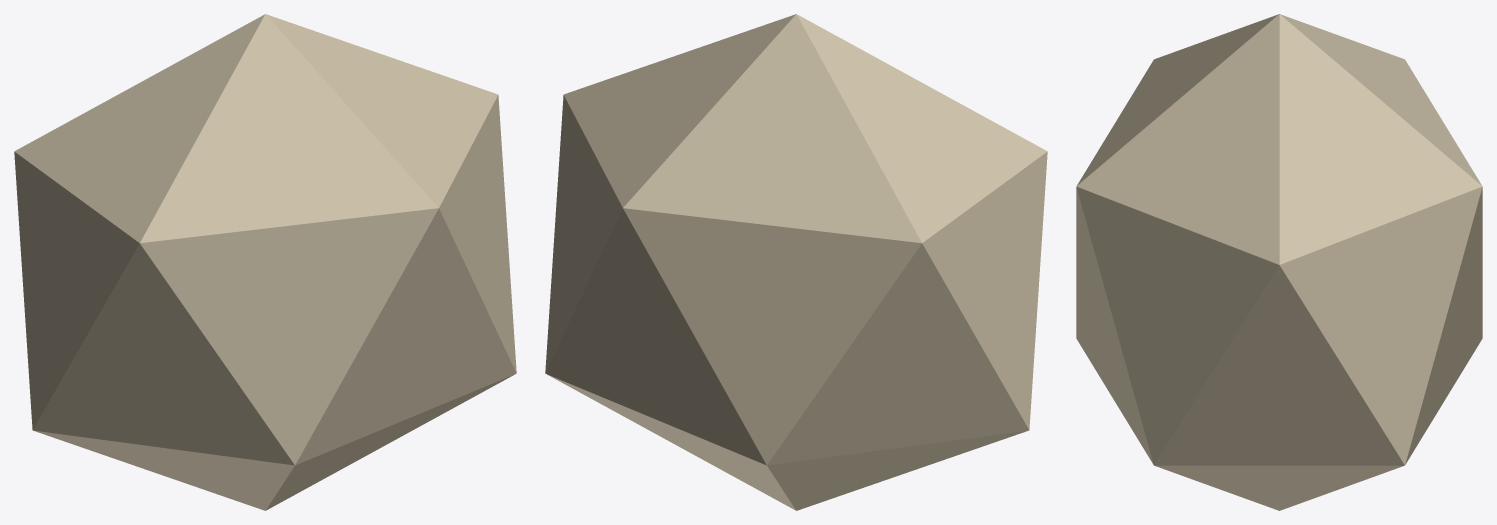
Rendered from blocker-rock.glb.
3 renders of one model, left to right at view 1: azimuth 30°, elevation 25°; view 2: azimuth 150°, elevation 25°; view 3: azimuth 270°, elevation 25°, orthographic.
Parts seen in each view (by area): view 1: Faceted boulder; view 2: Faceted boulder; view 3: Faceted boulder.
Part boxes in pixels (x1,y1,x2,y2): Faceted boulder: (14,14,516,510); Faceted boulder: (545,14,1047,510); Faceted boulder: (1076,14,1482,510).
Size of the model in its own units: 0.6082 by 0.62 by 0.4593.
